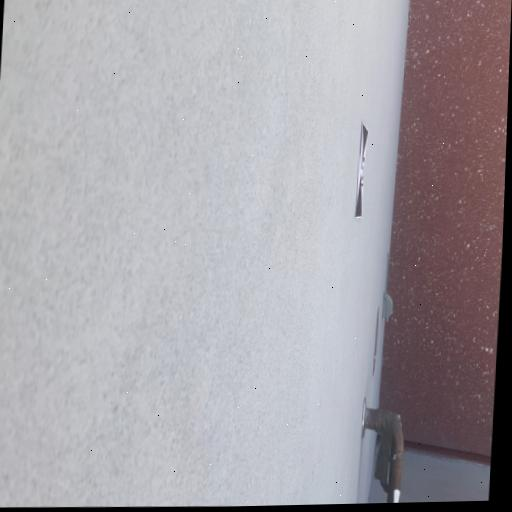target5: (356, 121, 369, 219)
